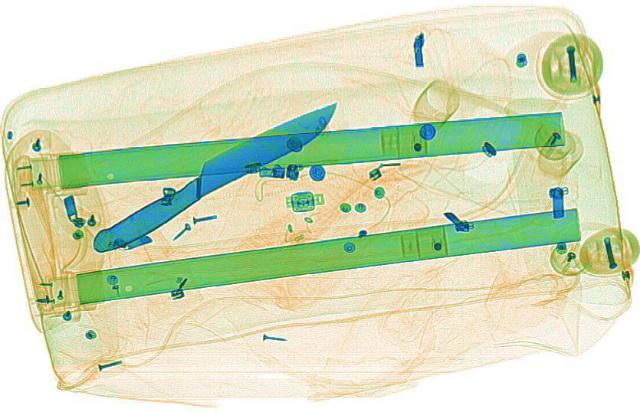Knife: (73, 93, 353, 258)
